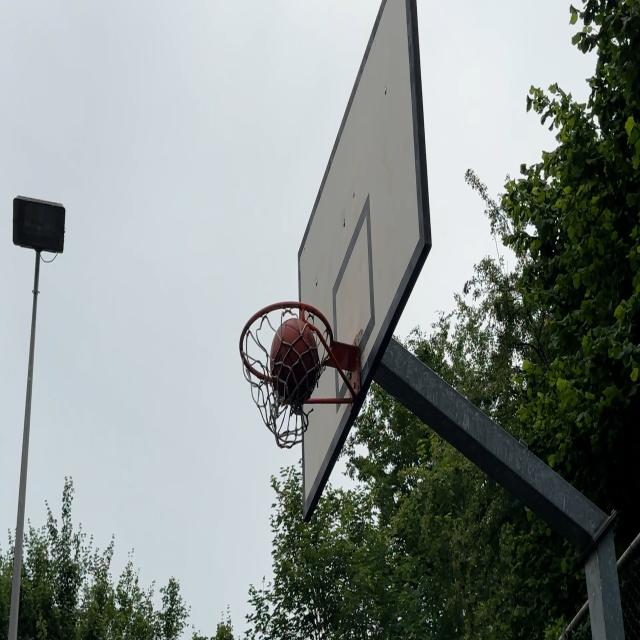Goal: (271, 320, 319, 405)
